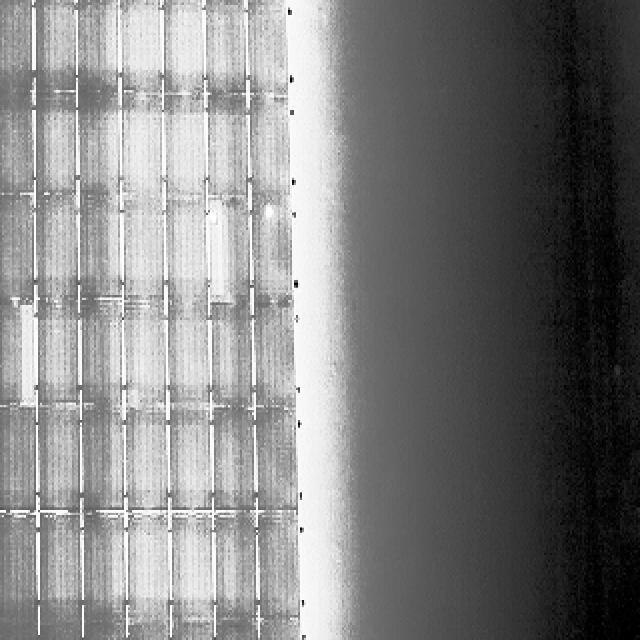Hotspots: (207, 202, 226, 226), (263, 206, 276, 220)
PV-modules: (208, 303, 260, 407), (172, 513, 218, 624), (39, 513, 84, 625), (123, 301, 169, 410), (125, 514, 169, 627), (164, 94, 210, 202), (80, 514, 125, 624), (35, 199, 80, 308), (214, 513, 258, 623), (250, 94, 294, 204), (167, 201, 213, 306), (257, 512, 301, 621), (77, 300, 121, 409), (212, 406, 257, 512), (157, 0, 208, 93), (38, 404, 82, 511), (123, 408, 168, 512), (37, 302, 82, 406), (120, 196, 164, 302), (74, 92, 118, 198), (251, 406, 295, 511), (78, 409, 122, 514), (254, 305, 298, 410), (35, 93, 79, 198), (169, 305, 213, 409), (170, 410, 214, 514), (204, 96, 247, 202), (253, 202, 296, 308), (122, 92, 164, 200), (207, 202, 250, 307), (75, 194, 118, 299), (248, 1, 292, 98), (204, 1, 248, 97), (0, 512, 38, 622), (73, 1, 117, 96), (120, 1, 163, 96), (34, 2, 76, 95), (0, 300, 36, 408), (0, 408, 36, 512), (0, 93, 34, 195), (0, 192, 32, 300), (0, 0, 34, 95), (170, 620, 216, 640), (254, 622, 298, 640), (214, 625, 260, 640), (80, 625, 126, 640), (0, 625, 40, 640), (38, 627, 84, 640), (126, 630, 170, 640)
